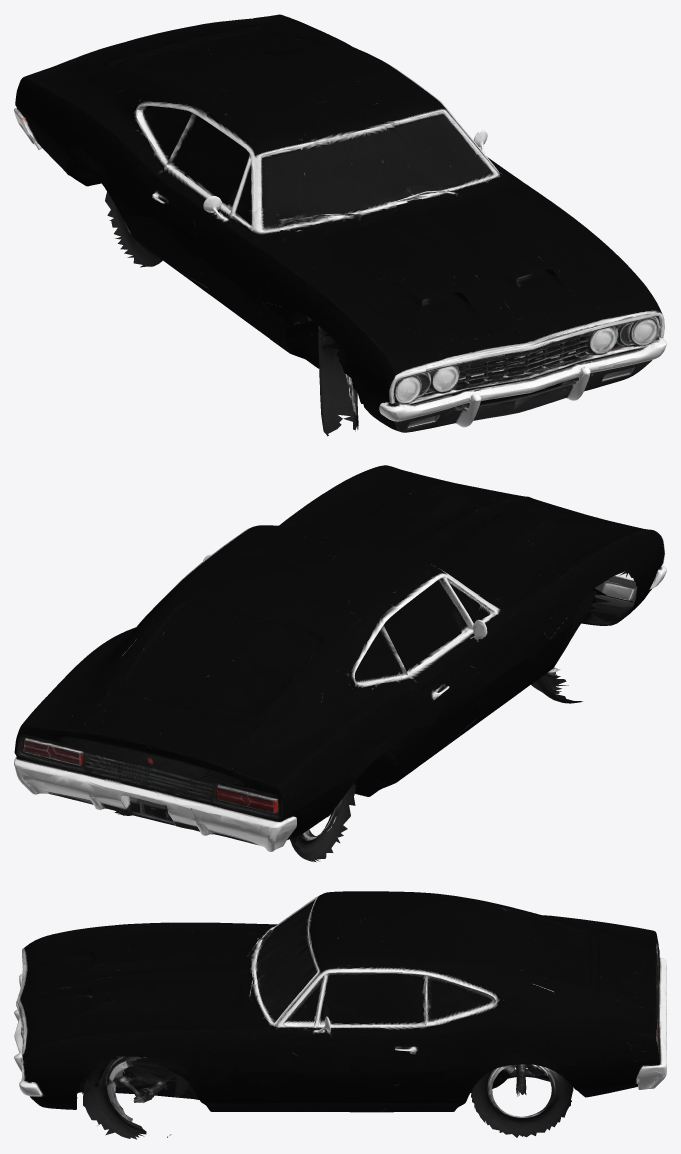
File: muscle.glb
The picture shows the model from 3 angles, top to bottom: view 1: azimuth 30°, elevation 25°; view 2: azimuth 150°, elevation 25°; view 3: azimuth 270°, elevation 25°; orthographic projection. The views are drawn at different scales.
Parts seen in each view (by area): view 1: Mesh_0; view 2: Mesh_0; view 3: Mesh_0.
Part boxes in pixels (x1,y1,x2,y2): Mesh_0: [14, 14, 666, 436]; Mesh_0: [14, 465, 666, 862]; Mesh_0: [14, 891, 666, 1139].
Bounding box in the file's own units: 0.4411 × 0.2973 × 1.
1 material, 1 textured.
